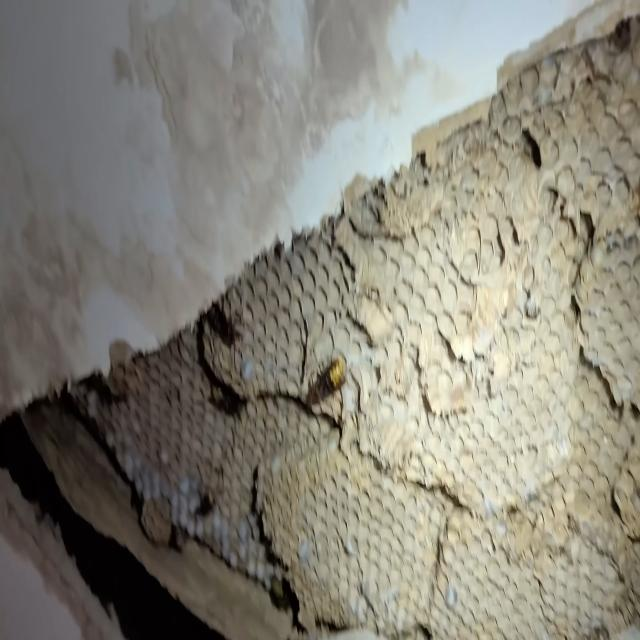Hornets: (304, 355, 346, 408)
